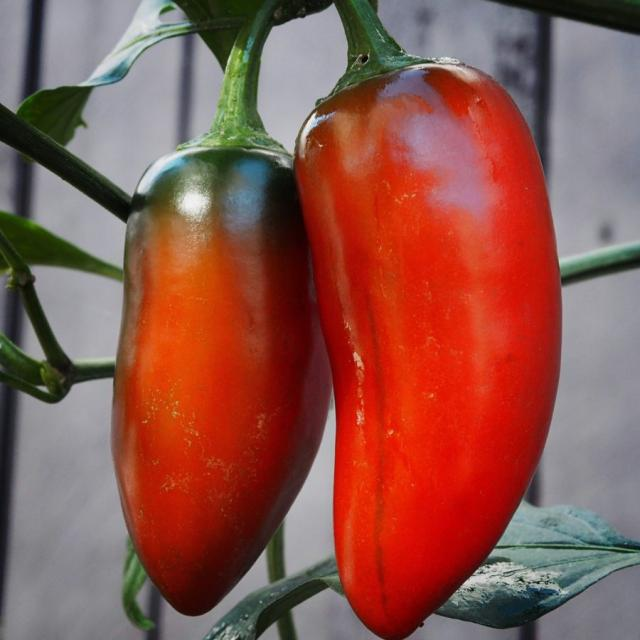aji: (292, 61, 580, 614), (108, 119, 306, 597)
